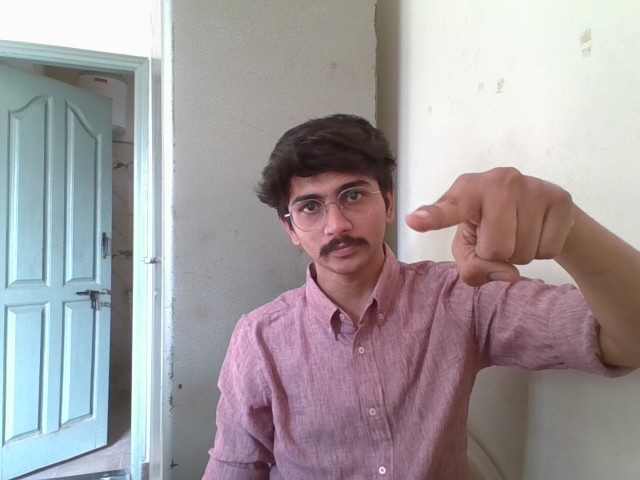you: (400, 166, 590, 288)
